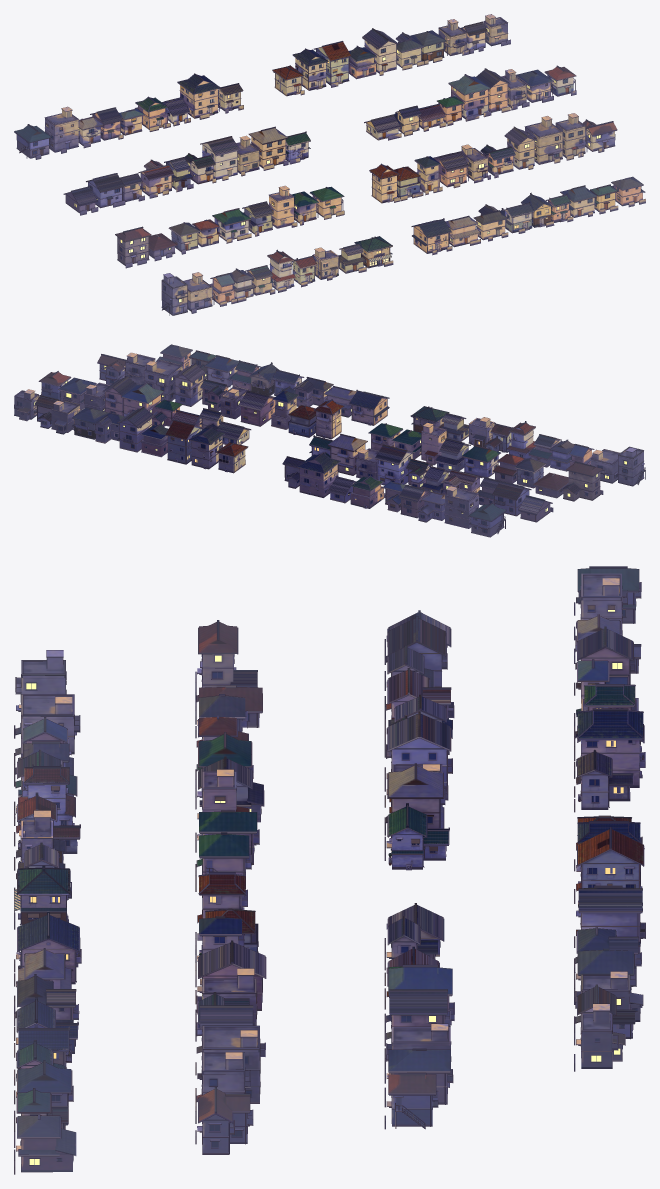
The model's file is town.glb.
3 renders of one model, top to bottom at view 1: azimuth 30°, elevation 25°; view 2: azimuth 150°, elevation 25°; view 3: azimuth 270°, elevation 25°, orthographic. The views are drawn at different scales.
Visible parts, largest first — view 1: piece_town; view 2: piece_town; view 3: piece_town.
Part boxes in pixels (box(x1,y1,x2,y2)): piece_town: box(14, 14, 645, 315); piece_town: box(14, 344, 645, 537); piece_town: box(14, 566, 645, 1174).
Size of the model in its own units: 182 by 31.28 by 100.
Materials: 12 (1 with a texture image).
